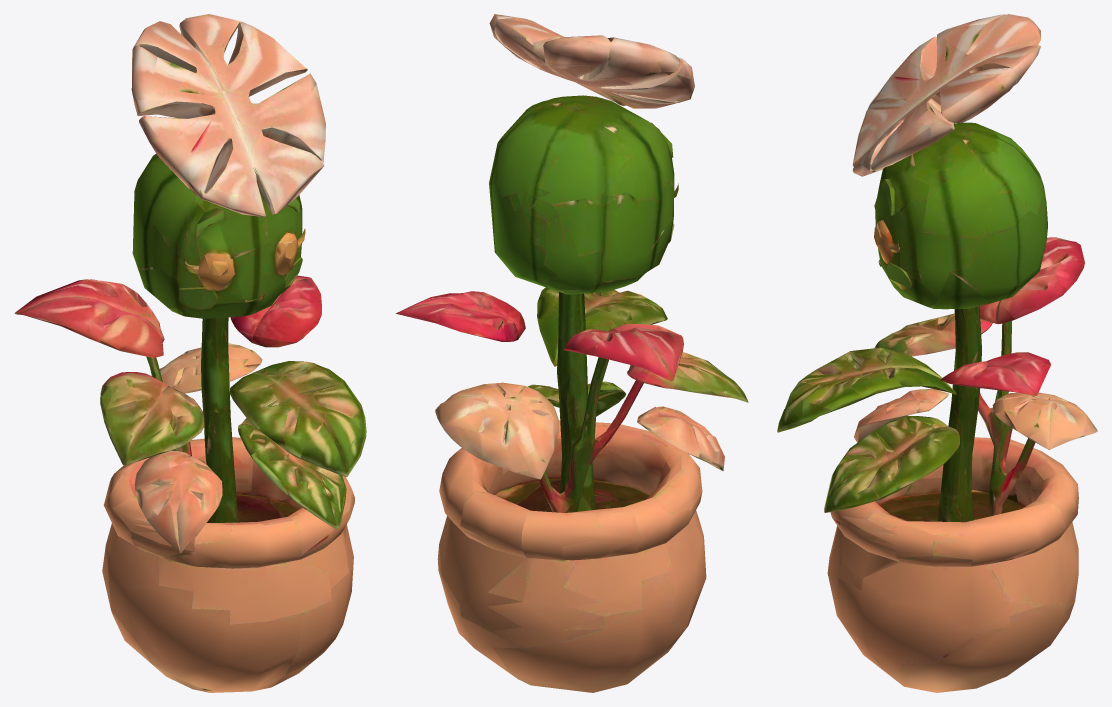
The model's file is monstera.glb.
3 views of the same model, side by side, from view 1: azimuth 30°, elevation 25°; view 2: azimuth 150°, elevation 25°; view 3: azimuth 270°, elevation 25° (orthographic). The views are drawn at different scales.
Size of the model in its own units: 0.6286 by 1.35 by 0.6258.
1 material, 1 textured.
